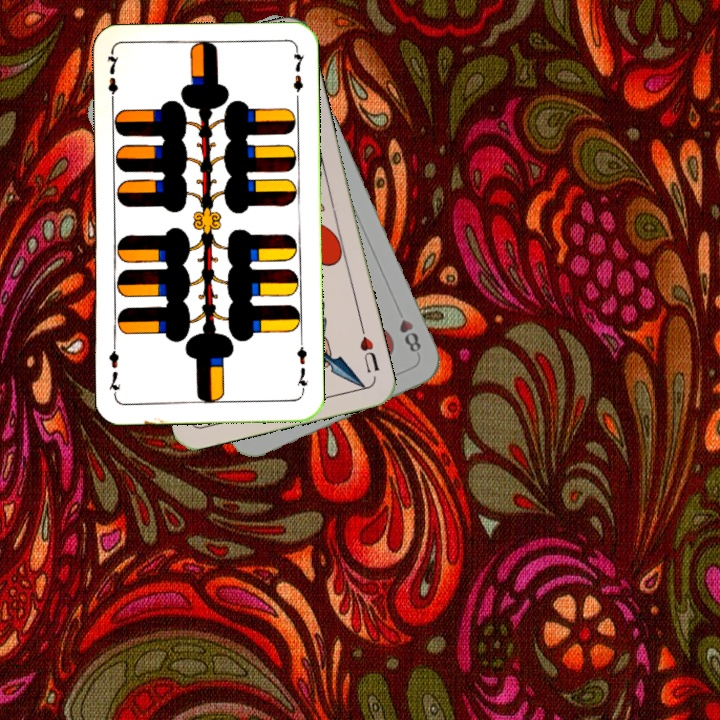E7: (292, 337, 311, 396), (103, 50, 121, 109)
H8: (393, 303, 424, 355)
HU: (355, 322, 382, 375)
